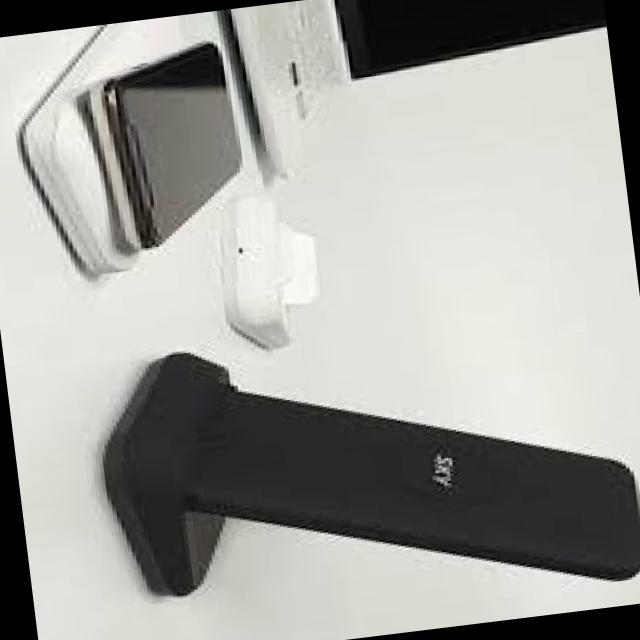portable-charger: (8, 13, 225, 286)
